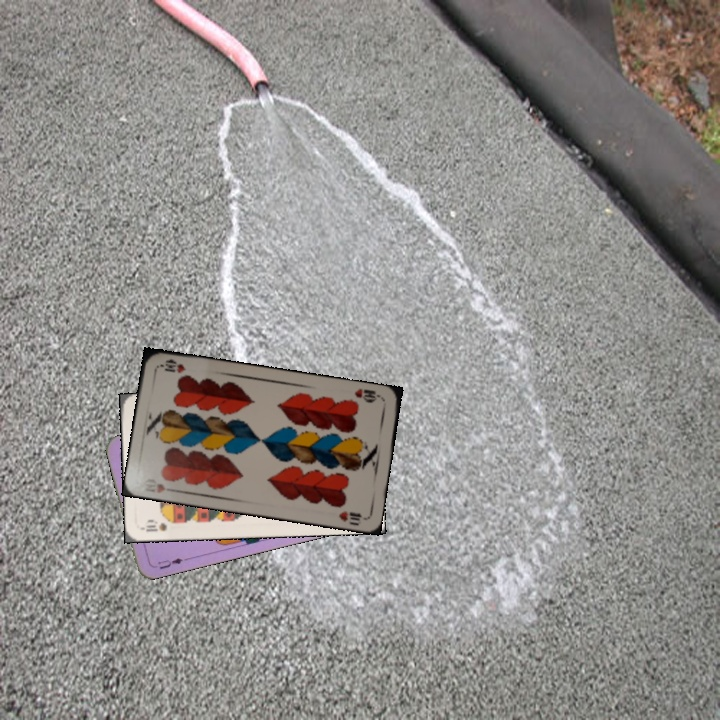EU: (149, 554, 190, 572)
H10: (351, 385, 384, 405), (152, 479, 179, 495)
S10: (139, 517, 169, 534)
